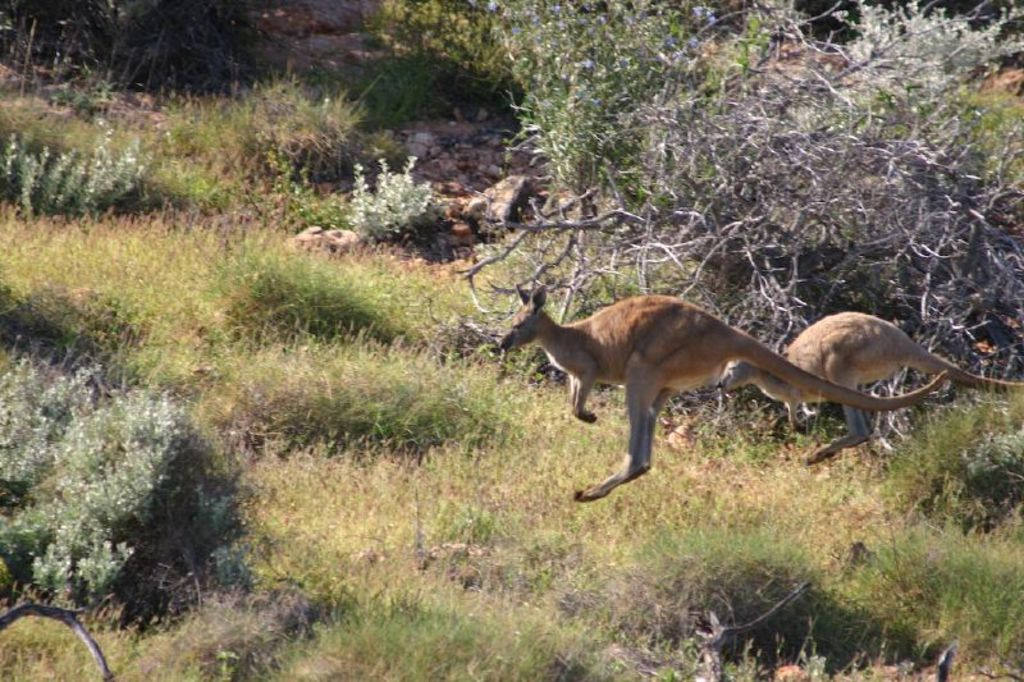kangaroo: (496, 295, 948, 499)
